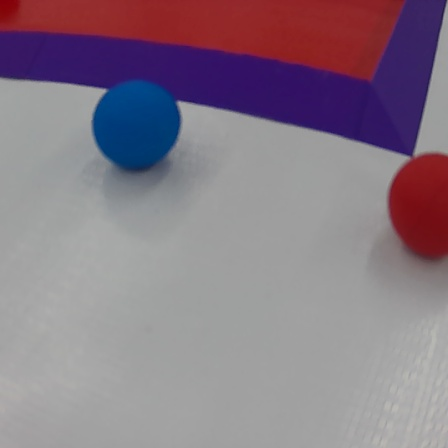blue: (91, 77, 187, 169)
red: (383, 150, 448, 261)
red_aim: (0, 0, 448, 165)
